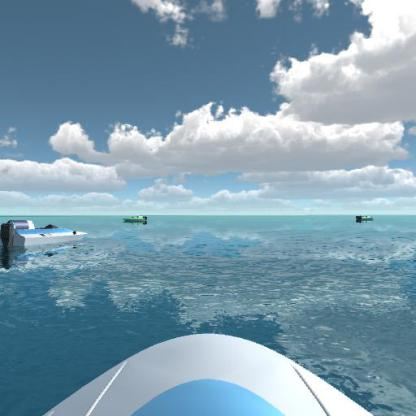usv0: (120, 212, 147, 228), (354, 212, 378, 224)
usv1: (0, 215, 91, 253)
